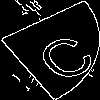C: (25, 25, 100, 84)
